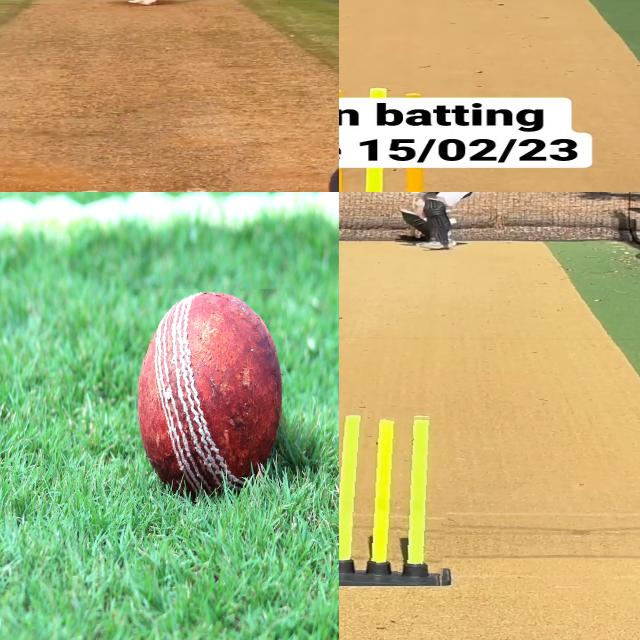Cricket ball: (135, 289, 287, 504)
Stumps: (339, 412, 453, 586)
